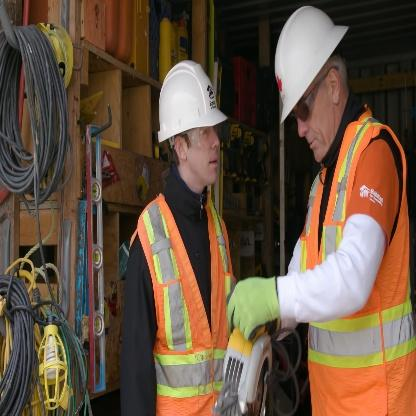helmet: (256, 0, 367, 160), (153, 52, 228, 203)
